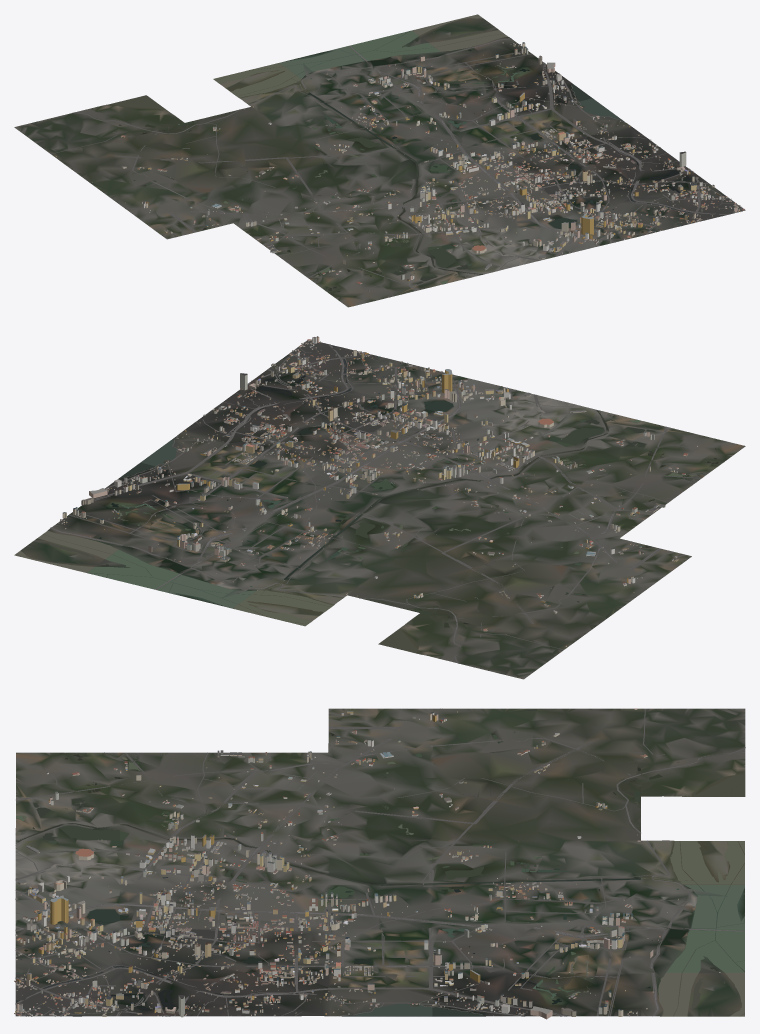
3 renders of one model, top to bottom at view 1: azimuth 30°, elevation 25°; view 2: azimuth 150°, elevation 25°; view 3: azimuth 270°, elevation 25°, orthographic. The views are drawn at different scales.
Parts seen in each view (by area): view 1: ground, buildings, water, roads; view 2: ground, buildings, water, roads; view 3: ground, buildings, water, roads.
Boxes of the visible parts, bbox=[...] form: ground: bbox=[14, 15, 745, 307]; buildings: bbox=[55, 42, 744, 291]; water: bbox=[107, 14, 723, 297]; roads: bbox=[51, 38, 742, 293]; ground: bbox=[16, 340, 745, 679]; buildings: bbox=[58, 336, 697, 646]; water: bbox=[14, 345, 731, 654]; roads: bbox=[50, 341, 708, 663]; ground: bbox=[15, 708, 745, 1016]; buildings: bbox=[14, 708, 678, 1019]; water: bbox=[15, 724, 744, 1016]; roads: bbox=[15, 708, 745, 1016].
Size of the model in its own units: 9902 by 341 by 9849.
